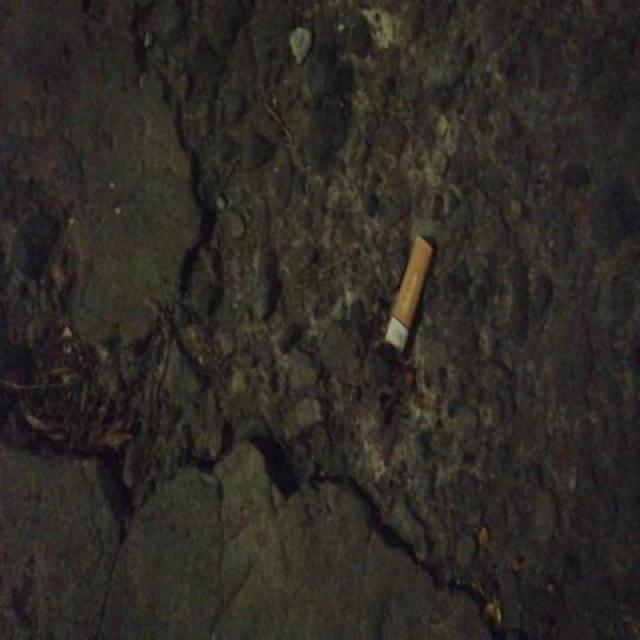non-organic waste: (380, 228, 436, 356)
